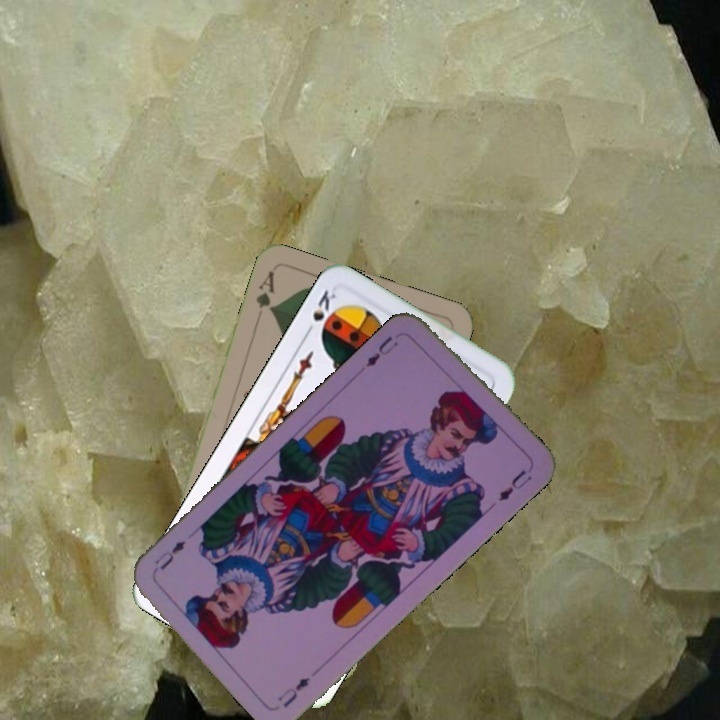EU: (362, 331, 401, 370), (273, 673, 313, 710)
GA: (251, 267, 278, 315)
SK: (301, 285, 339, 339)
